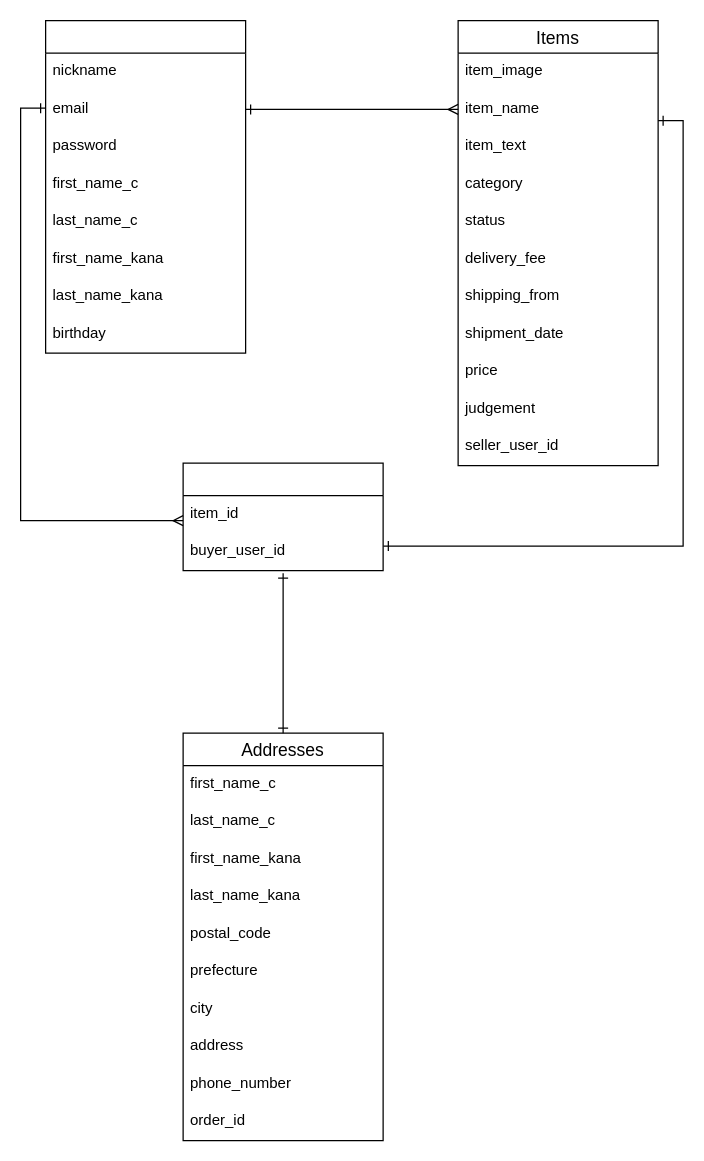
The diagram is 704 pixels wide and 1161 high, and some of its shapes have lost their labels. The shapes that lost their labels are listed below. From the top down, each one's box as (x1, y1, x2, y2) in pixels, then its label:
(44, 19, 246, 353): Users
(182, 462, 383, 571): Orders
